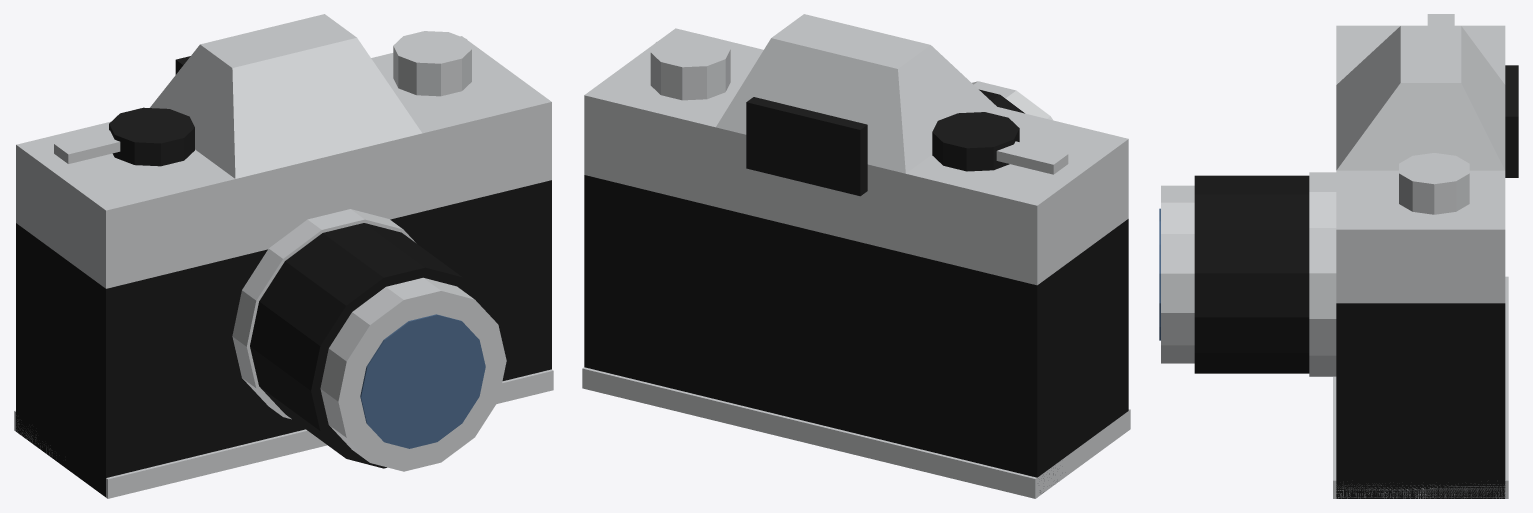
The model's file is camera.glb.
3 views of the same model, side by side, from view 1: azimuth 30°, elevation 25°; view 2: azimuth 150°, elevation 25°; view 3: azimuth 270°, elevation 25° (orthographic). The views are drawn at different scales.
Parts seen in each view (by area): view 1: Camera; view 2: Camera; view 3: Camera.
Part boxes in pixels (bbox=[...]): Camera: bbox=[14, 14, 553, 498]; Camera: bbox=[582, 14, 1130, 498]; Camera: bbox=[1159, 14, 1518, 498].
Bounding box in the file's own units: 0.143 × 0.112 × 0.1065.
